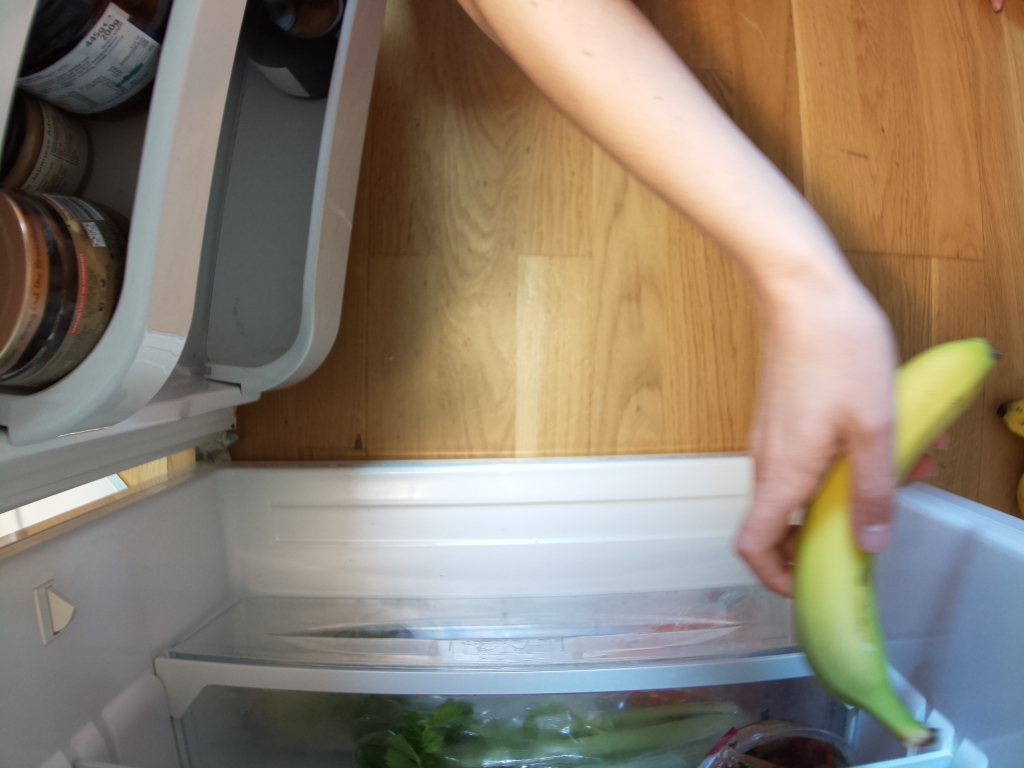banana-unripe: (798, 333, 1005, 740)
